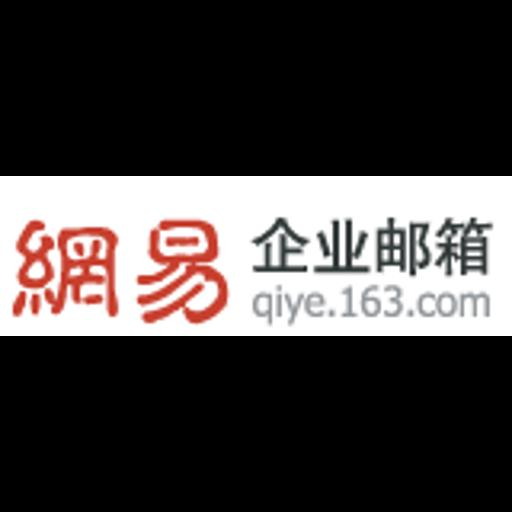NetEase: (0, 176, 512, 336)
